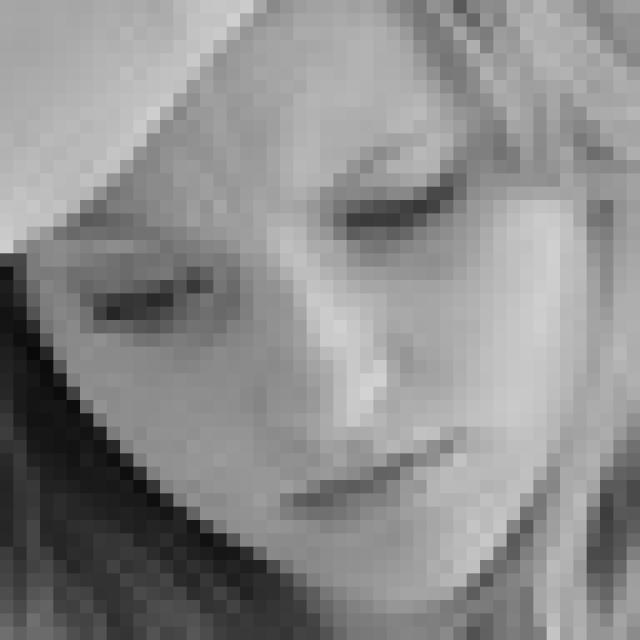sad: (67, 112, 485, 527)
